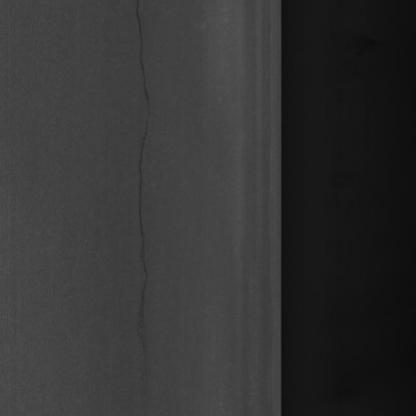water_spot: (122, 6, 156, 357)
